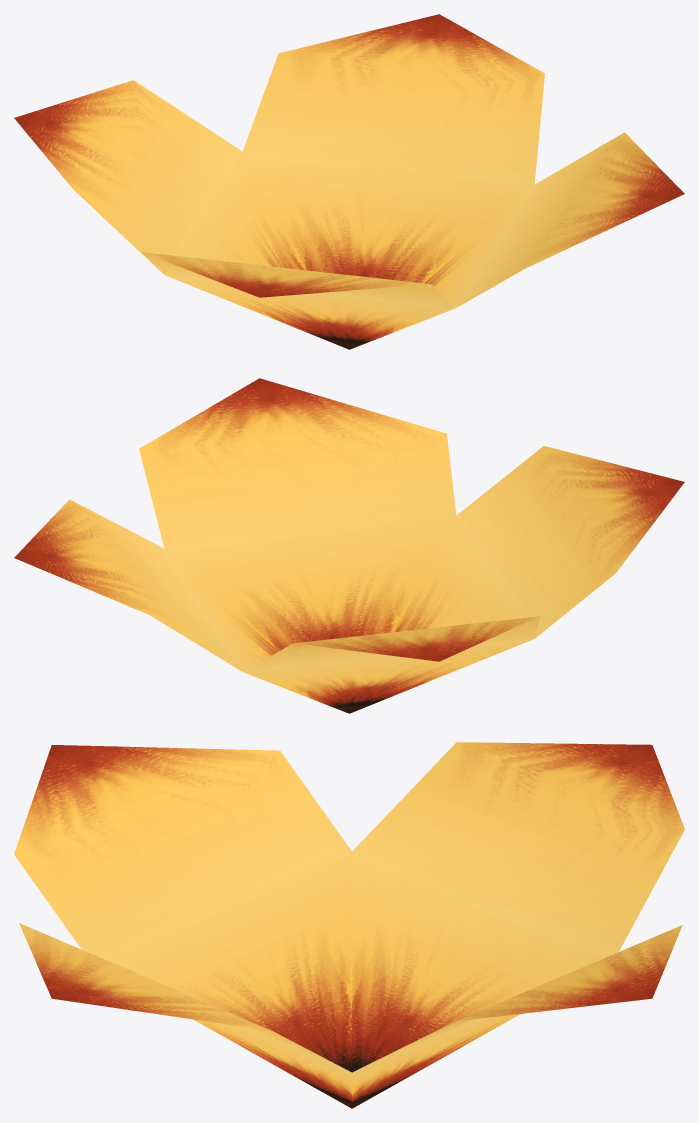
Rendered from stylized_flowers_stage1.glb.
The picture shows the model from 3 angles, top to bottom: view 1: azimuth 30°, elevation 25°; view 2: azimuth 150°, elevation 25°; view 3: azimuth 270°, elevation 25°; orthographic projection. The views are drawn at different scales.
Parts seen in each view (by area): view 1: Stage1; view 2: Stage1; view 3: Stage1.
Boxes of the visible parts, left/top/right/bottom form: Stage1: left=14, top=14, right=684, bottom=349; Stage1: left=14, top=378, right=684, bottom=713; Stage1: left=14, top=742, right=684, bottom=1108.
Bounding box in the file's own units: 1.52 × 0.6609 × 1.51.
Materials: 1 (1 with a texture image).
